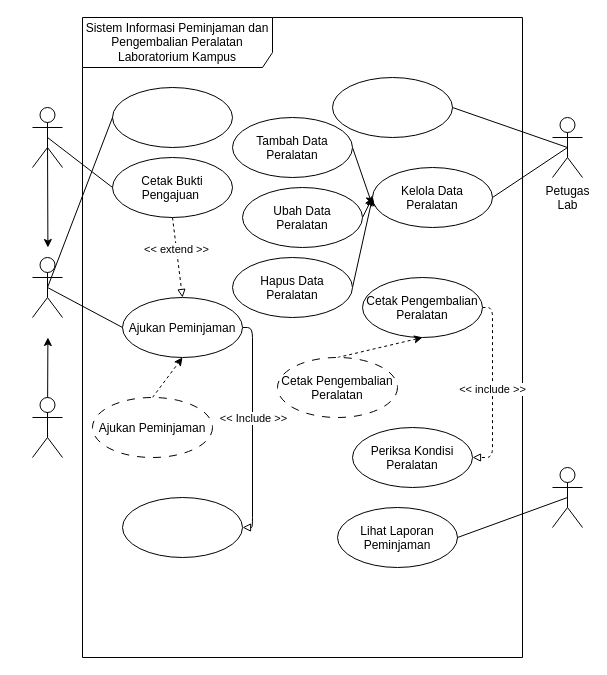
Image size: 607x675. Some labels were removed from this diagram. The box of each missing label's shape, as (x1, y1, x2, y2) in pixels:
Dosen: (32, 396, 62, 458)
Kepala Lab: (552, 466, 582, 528)
Lihat Ketersediaan Peralatan: (112, 86, 232, 148)
Mahasiswa: (32, 106, 62, 168)
Peminjam: (32, 256, 62, 318)
Periksa Ketersediaan: (122, 496, 242, 558)
Proses Keputusan Peminjaman: (332, 76, 452, 138)
